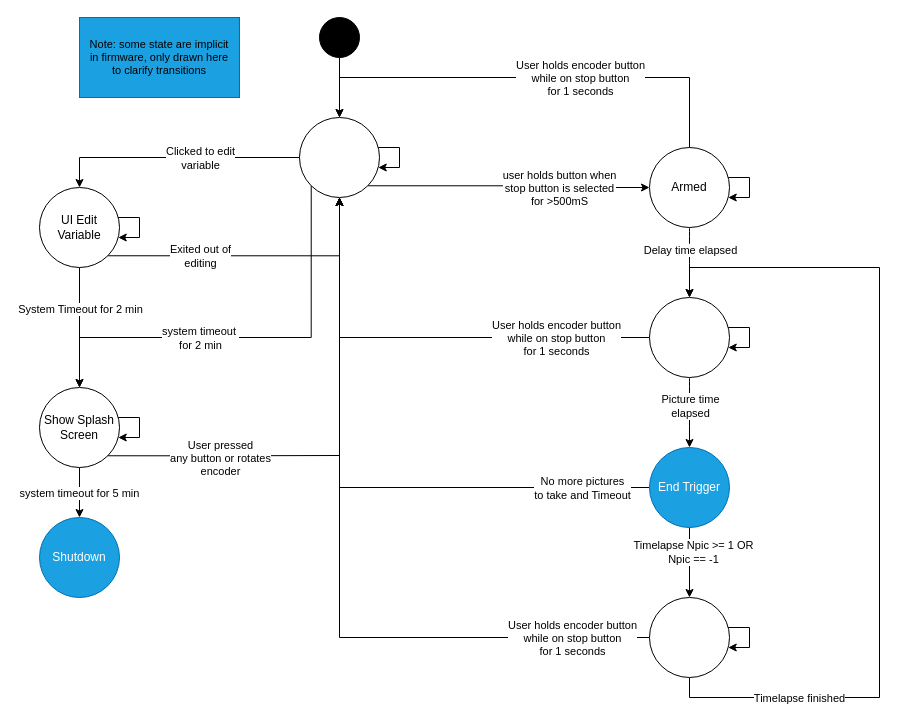
Some shapes in this 905 by 723 pixel diagram are drawn without their labels. The shapes that lost their labels are listed below. From the top down, each one's box as (x1, y1, x2, y2) in pixels, then its label:
(298, 116, 380, 198): Standby
(648, 296, 730, 378): Triggered
(648, 596, 730, 678): Timelapse Wait
